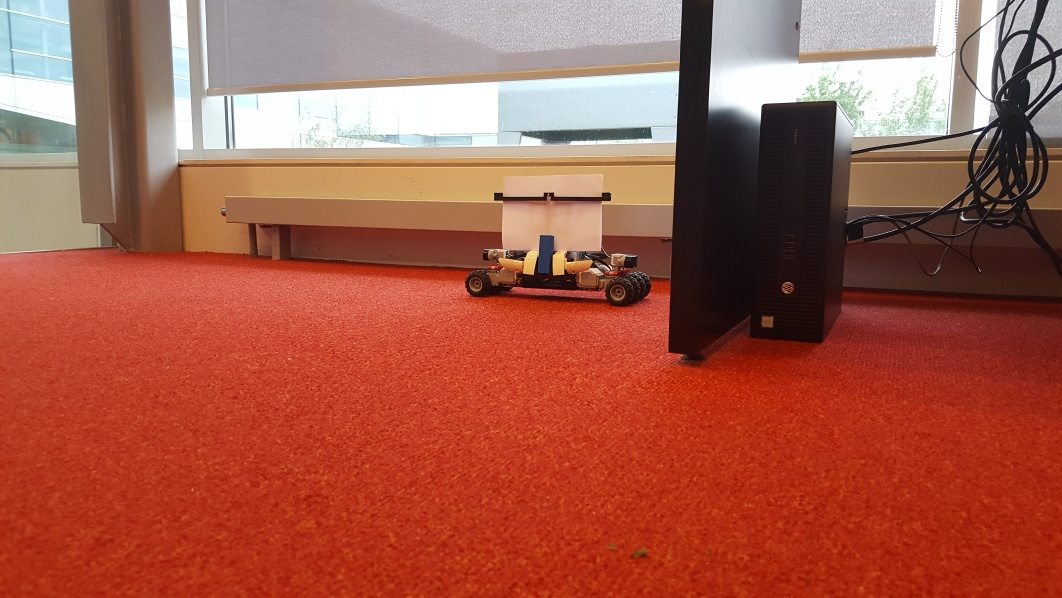car: (463, 173, 653, 309)
